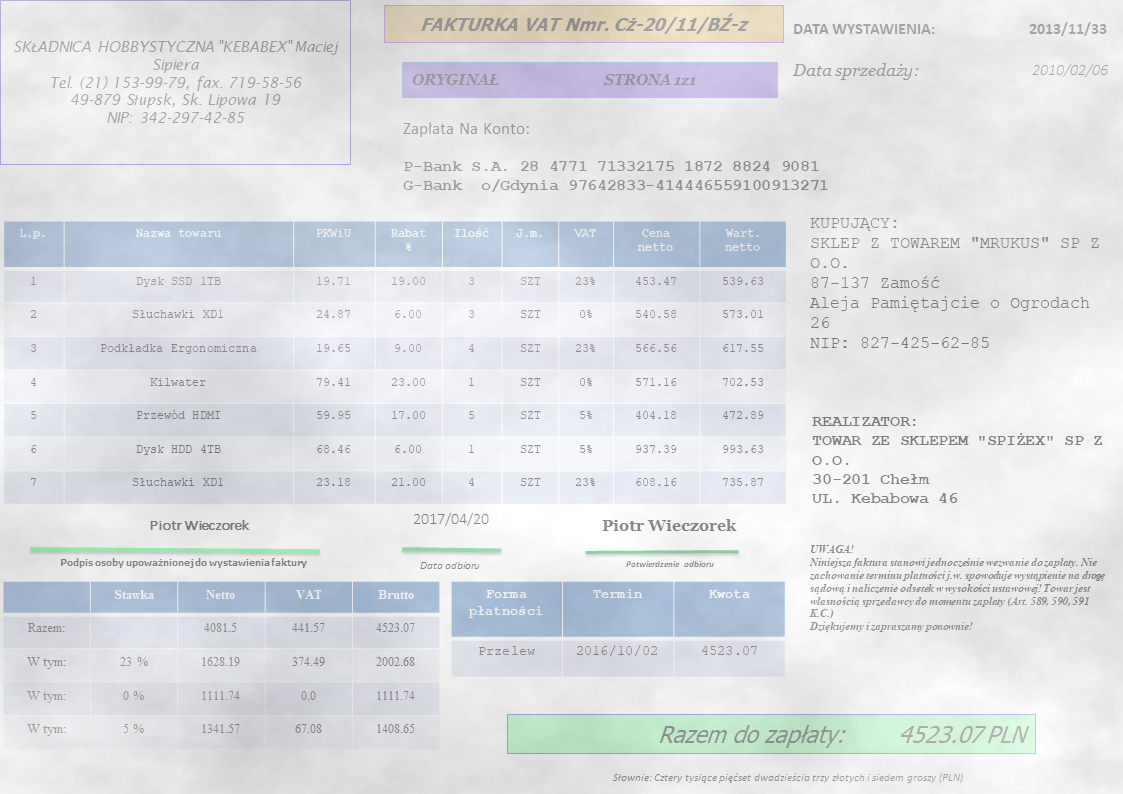Table: (1, 218, 788, 506), (1, 579, 441, 751), (449, 578, 787, 678)
TextBox: (806, 212, 1105, 355), (10, 35, 343, 129), (805, 539, 1111, 637), (809, 412, 1107, 509), (400, 156, 833, 197), (655, 720, 1032, 747), (418, 10, 755, 38), (409, 67, 698, 89), (608, 769, 966, 785), (57, 554, 309, 572), (790, 57, 924, 83), (400, 118, 534, 139), (791, 19, 937, 38), (599, 516, 738, 534), (144, 516, 255, 534), (410, 509, 490, 530), (1025, 20, 1112, 39), (1027, 61, 1112, 79), (623, 557, 715, 571), (416, 557, 481, 573)
